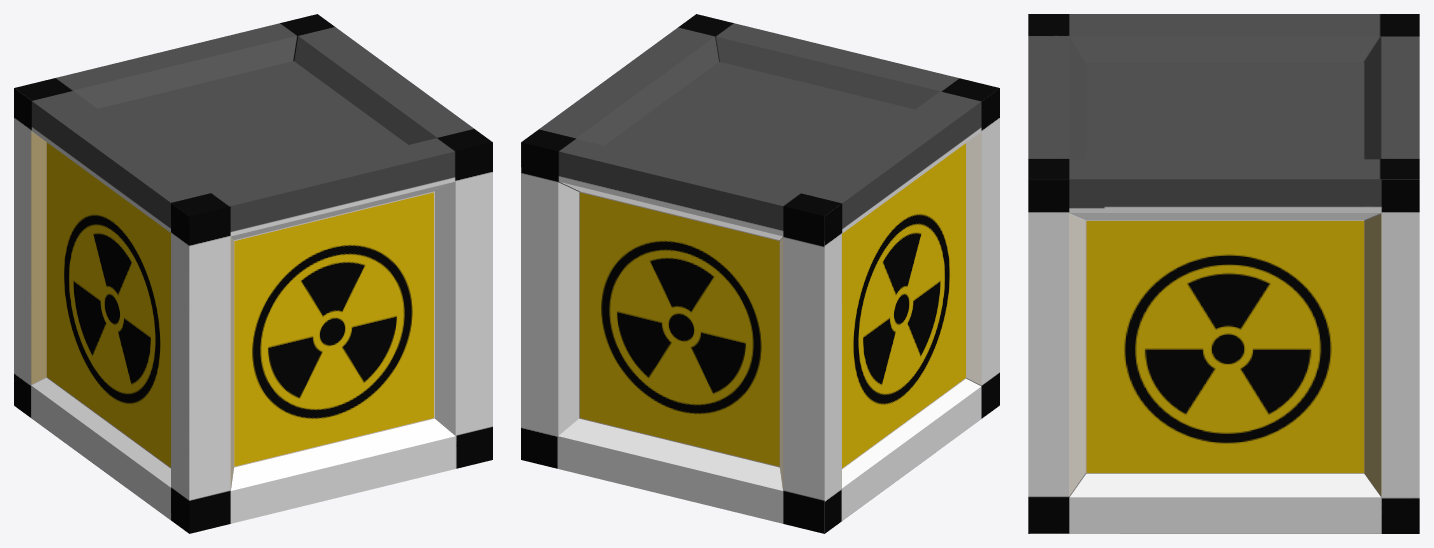
Rendered from Crate_Uranium_Refined.obj.
3 views of the same model, side by side, from view 1: azimuth 30°, elevation 25°; view 2: azimuth 150°, elevation 25°; view 3: azimuth 270°, elevation 25° (orthographic). The views are drawn at different scales.
Visible parts, largest first — view 1: Crate:pCube2 Crate:polySurface2 Base_Crate; view 2: Crate:pCube2 Crate:polySurface2 Base_Crate; view 3: Crate:pCube2 Crate:polySurface2 Base_Crate.
Part boxes in pixels (left/top/right/bottom): Crate:pCube2 Crate:polySurface2 Base_Crate: left=14, top=14, right=492, bottom=533; Crate:pCube2 Crate:polySurface2 Base_Crate: left=521, top=14, right=999, bottom=533; Crate:pCube2 Crate:polySurface2 Base_Crate: left=1028, top=14, right=1419, bottom=533.
Bounding box in the file's own units: 1 × 1 × 1.
